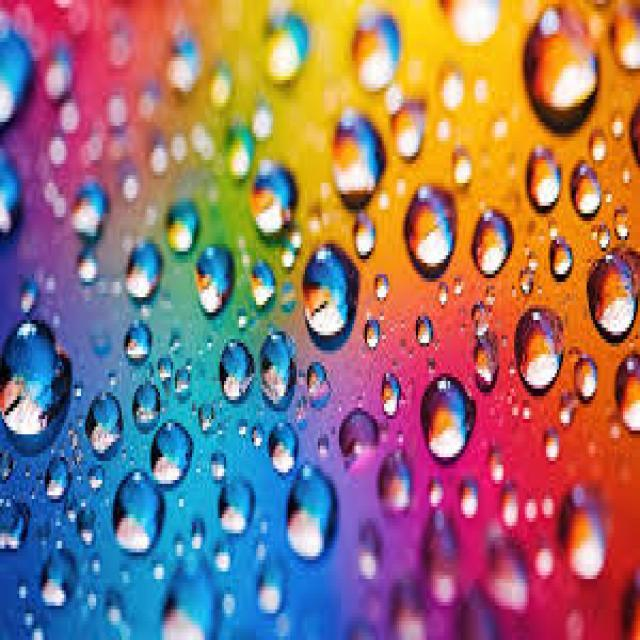raindrop: (520, 0, 612, 148), (0, 308, 81, 456), (298, 227, 369, 348), (548, 478, 612, 602), (277, 451, 343, 571), (398, 170, 463, 290), (412, 363, 480, 476), (108, 458, 174, 572), (506, 292, 570, 408), (326, 106, 389, 222), (416, 492, 470, 613), (254, 0, 315, 105), (246, 144, 304, 254), (253, 316, 308, 424), (582, 242, 638, 348), (191, 228, 243, 336), (468, 188, 520, 288), (351, 1, 403, 100), (210, 322, 260, 419), (80, 383, 136, 468), (122, 224, 172, 316), (331, 391, 387, 472), (37, 535, 84, 631), (372, 436, 422, 524), (146, 414, 203, 491), (210, 459, 260, 545), (520, 130, 566, 222), (562, 144, 610, 230), (0, 26, 38, 129), (609, 333, 640, 446), (0, 144, 34, 246), (260, 406, 302, 476), (44, 442, 80, 512)
